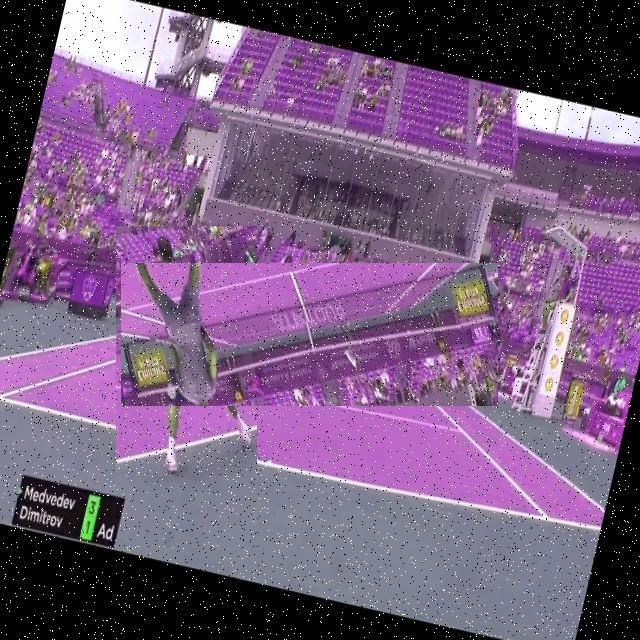court: (0, 265, 628, 543)
net: (122, 263, 500, 406)
player: (116, 226, 257, 476)
